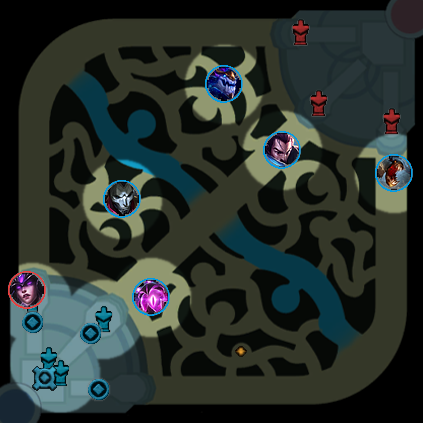AurelionSol: (205, 65, 243, 103)
Fiddlesticks: (375, 154, 413, 192)
Jhin: (103, 180, 141, 218)
Syndra: (8, 271, 46, 309)
Velkoz: (132, 278, 170, 316)
Yasuo: (263, 131, 301, 169)
